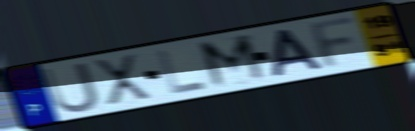A: (271, 26, 327, 79)
F: (307, 13, 361, 73)
L: (155, 48, 210, 97)
M: (195, 32, 272, 91)
U: (39, 60, 102, 116)
X: (91, 52, 155, 107)
